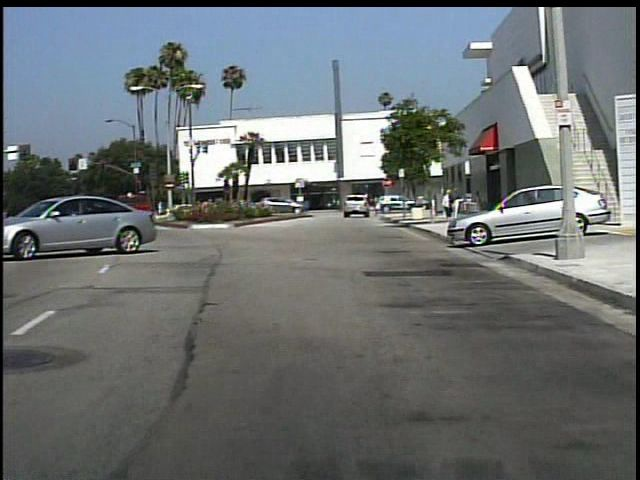person: (449, 187, 463, 224), (470, 188, 486, 220), (374, 191, 387, 220), (441, 190, 452, 220)
